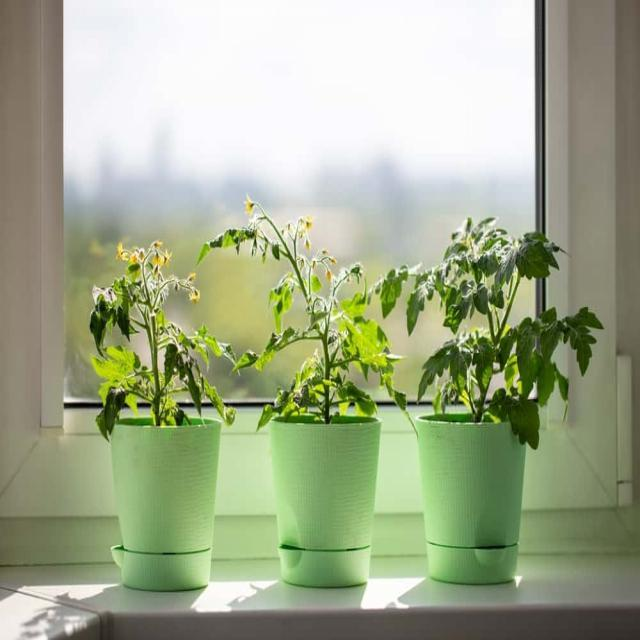tomato: (380, 218, 604, 450), (209, 197, 418, 434), (89, 240, 237, 442)
